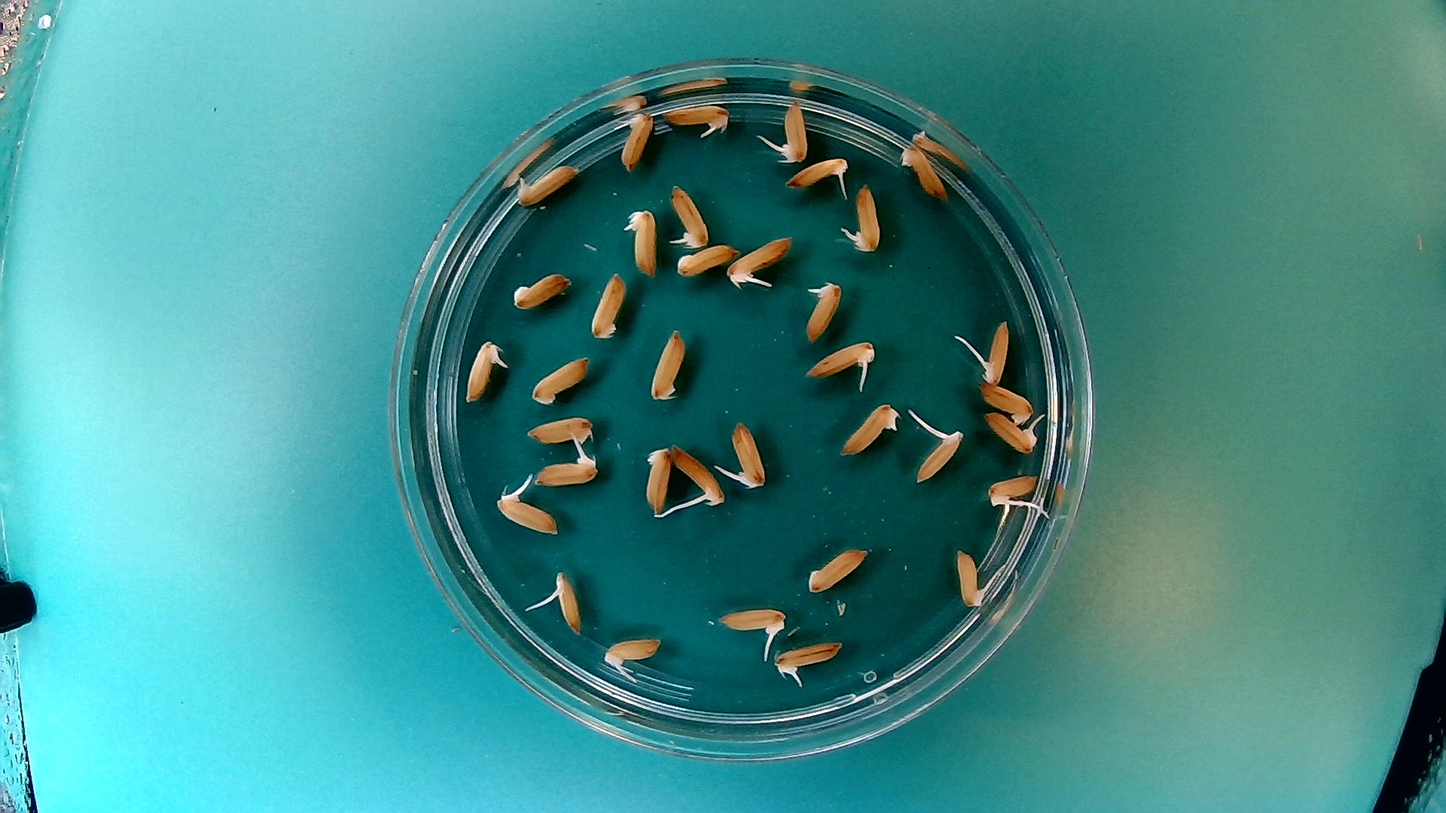no: (837, 398, 906, 459), (528, 353, 593, 408), (804, 544, 871, 595), (646, 322, 688, 403), (898, 143, 950, 204), (586, 267, 627, 343), (511, 267, 575, 311), (526, 413, 598, 449), (978, 379, 1036, 423), (618, 107, 657, 172), (642, 442, 674, 519), (673, 243, 738, 277)
yes: (725, 231, 795, 289), (667, 440, 725, 509), (493, 478, 560, 536), (801, 336, 880, 385), (911, 420, 966, 484), (773, 638, 846, 684), (840, 180, 883, 254), (666, 179, 710, 251), (801, 276, 846, 346), (462, 336, 508, 403), (968, 316, 1011, 385), (532, 444, 602, 486), (716, 604, 791, 643), (621, 202, 659, 278), (511, 165, 578, 208), (770, 96, 810, 165), (981, 409, 1041, 455), (783, 153, 852, 193), (545, 567, 584, 637), (725, 423, 765, 489), (954, 546, 992, 611), (660, 99, 732, 133), (983, 470, 1041, 512), (601, 633, 664, 671)
